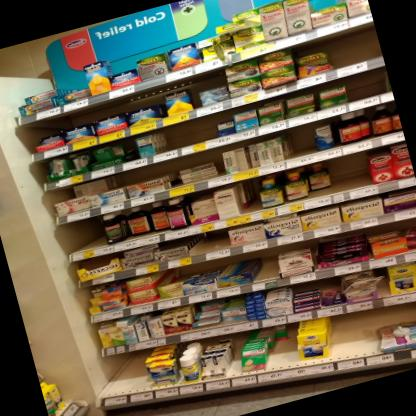empty_space: (321, 309, 383, 359), (96, 352, 149, 396), (328, 26, 382, 68), (162, 116, 217, 149), (328, 152, 368, 191), (343, 69, 386, 102), (69, 216, 104, 252), (270, 337, 300, 369), (195, 229, 229, 252), (260, 255, 279, 277)
